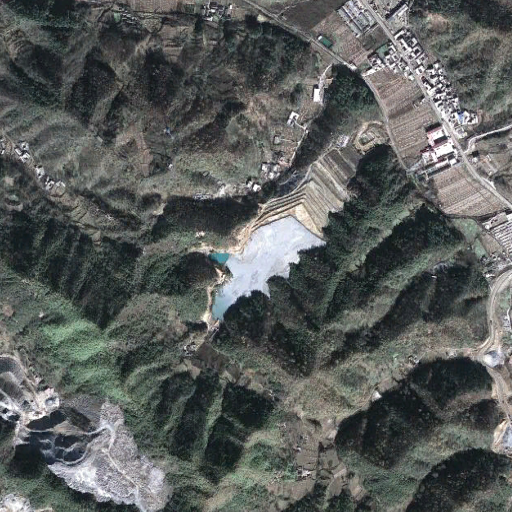tp: (209, 137, 359, 319)
